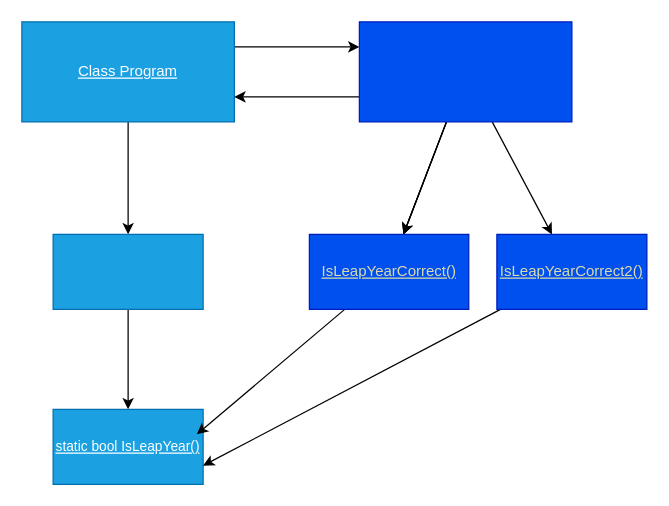
This 669x506 diagram has some shape labels left out. The shapes that lost their labels are listed below. From the top down, each one's centre as x and y in pixels, then its label:
At (465,71): "Unit Test1".
At (127,271): "Main method()".
